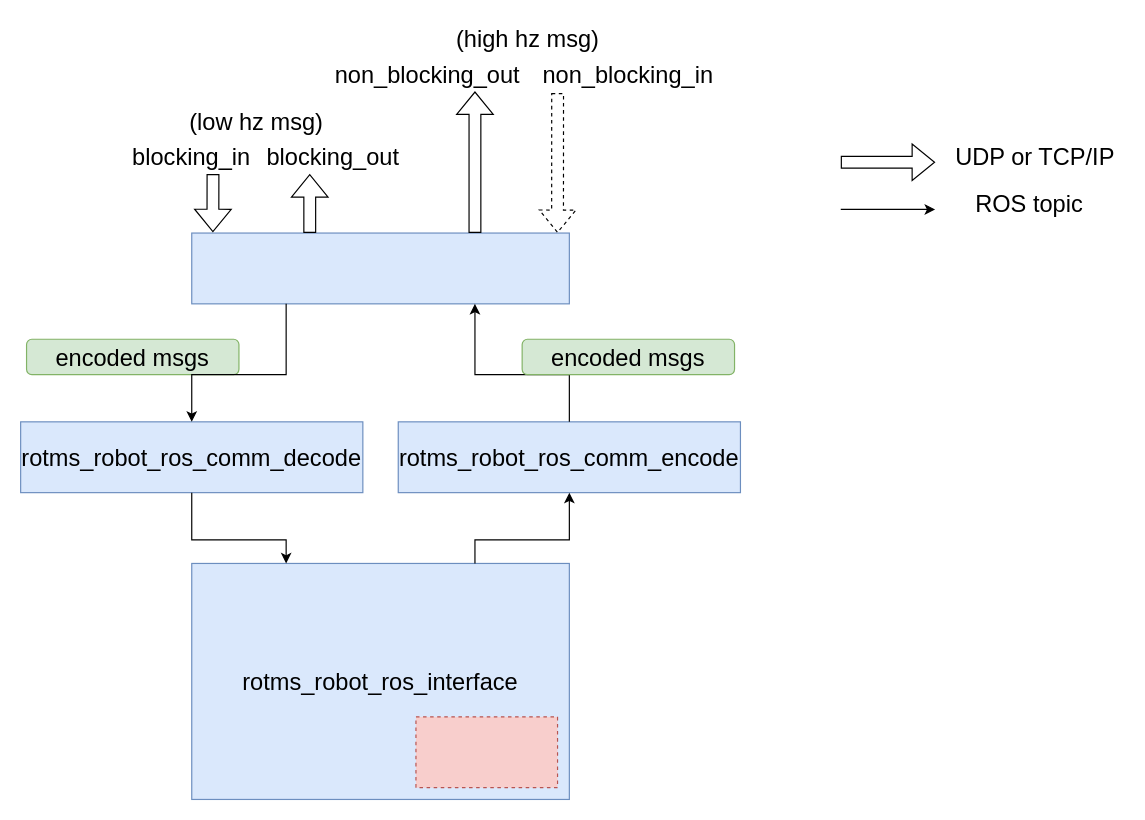
This 1145x820 diagram has some shape labels left out. Here are the shapes that lost their labels. From the top down, the centre of each, then its label:
point (380, 268): rotms_robot_ros_comm
point (486, 752): hardware interface
